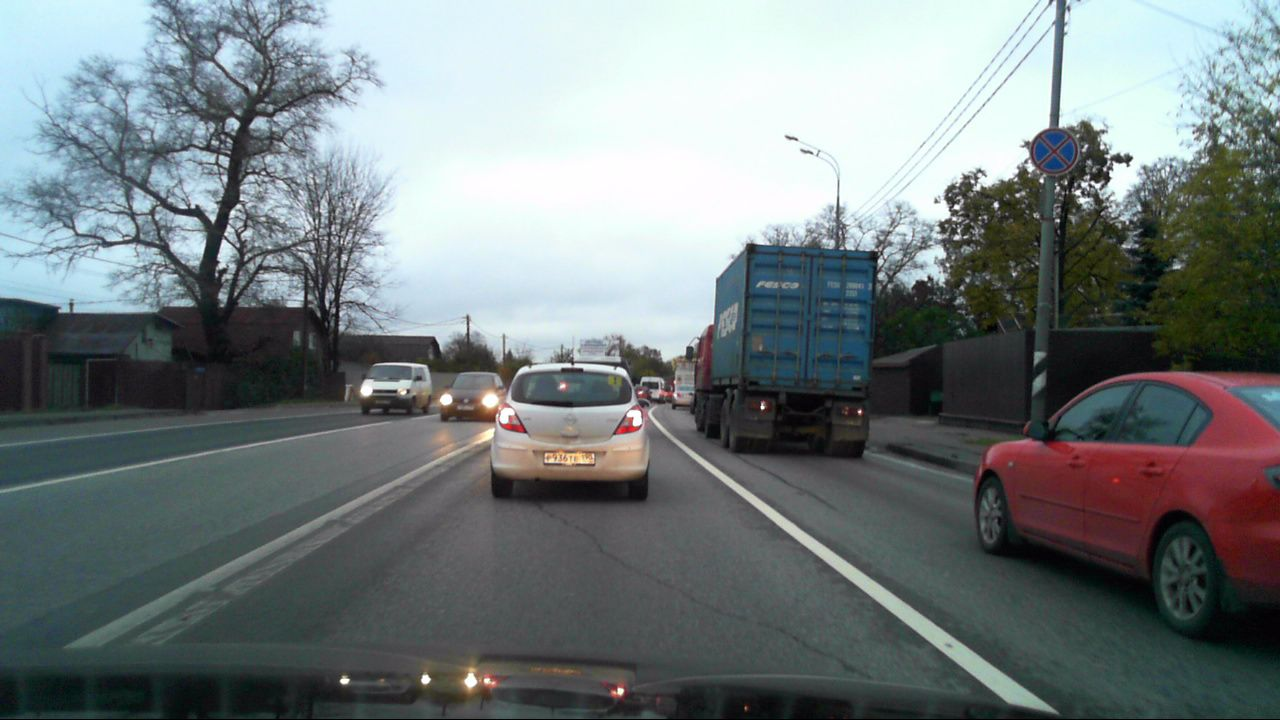No Parking: (1031, 128, 1078, 175)
